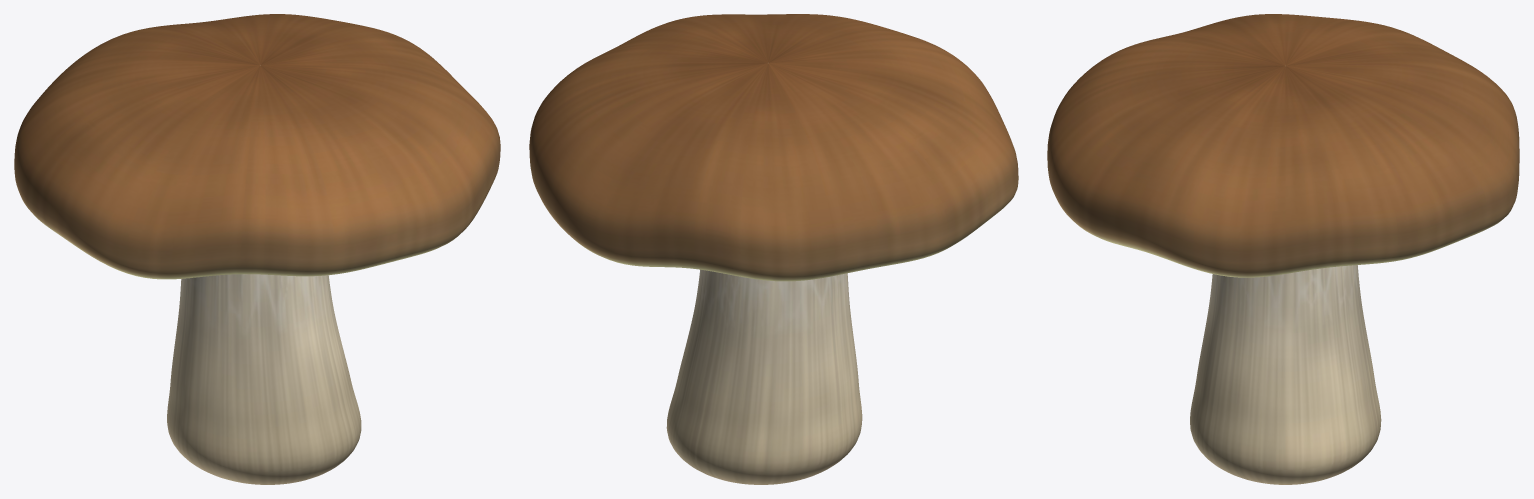
Rendered from boletus-edulis-agg-drawn.glb.
3 renders of one model, left to right at view 1: azimuth 30°, elevation 25°; view 2: azimuth 150°, elevation 25°; view 3: azimuth 270°, elevation 25°, orthographic. The views are drawn at different scales.
Bounding box in the file's own units: 0.8589 × 0.7904 × 0.8574.
1 material, 1 textured.
